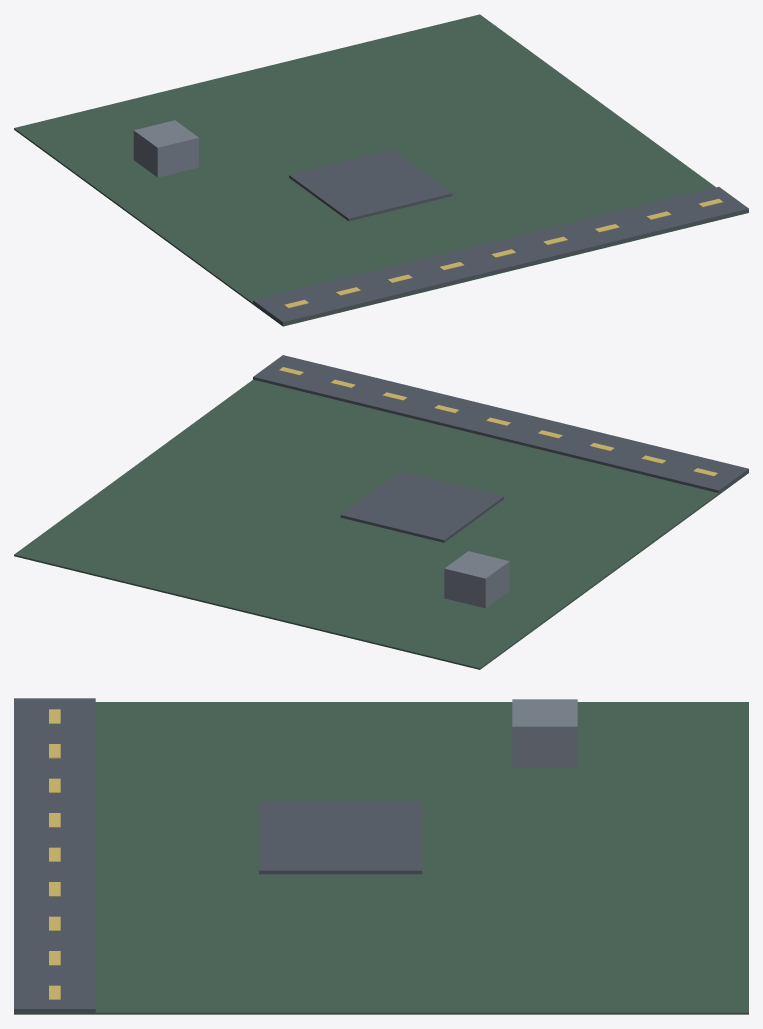
File: stage_02.glb
3 renders of one model, top to bottom at view 1: azimuth 30°, elevation 25°; view 2: azimuth 150°, elevation 25°; view 3: azimuth 270°, elevation 25°, orthographic. The views are drawn at different scales.
Parts seen in each view (by area): view 1: geometry_0; view 2: geometry_0; view 3: geometry_0.
Part boxes in pixels (x1=…): geometry_0: x1=14, y1=14, x2=748, y2=326; geometry_0: x1=14, y1=355, x2=748, y2=669; geometry_0: x1=14, y1=698, x2=748, y2=1014.
Size of the model in its own units: 9 by 0.58 by 9.
